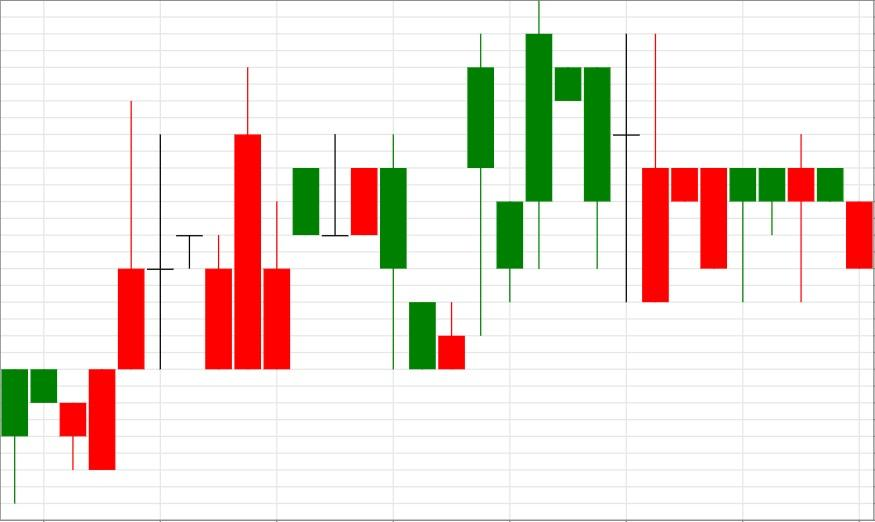bearish_engulfing_fall: (204, 66, 408, 369)
hammer_rise: (524, 0, 757, 303)
